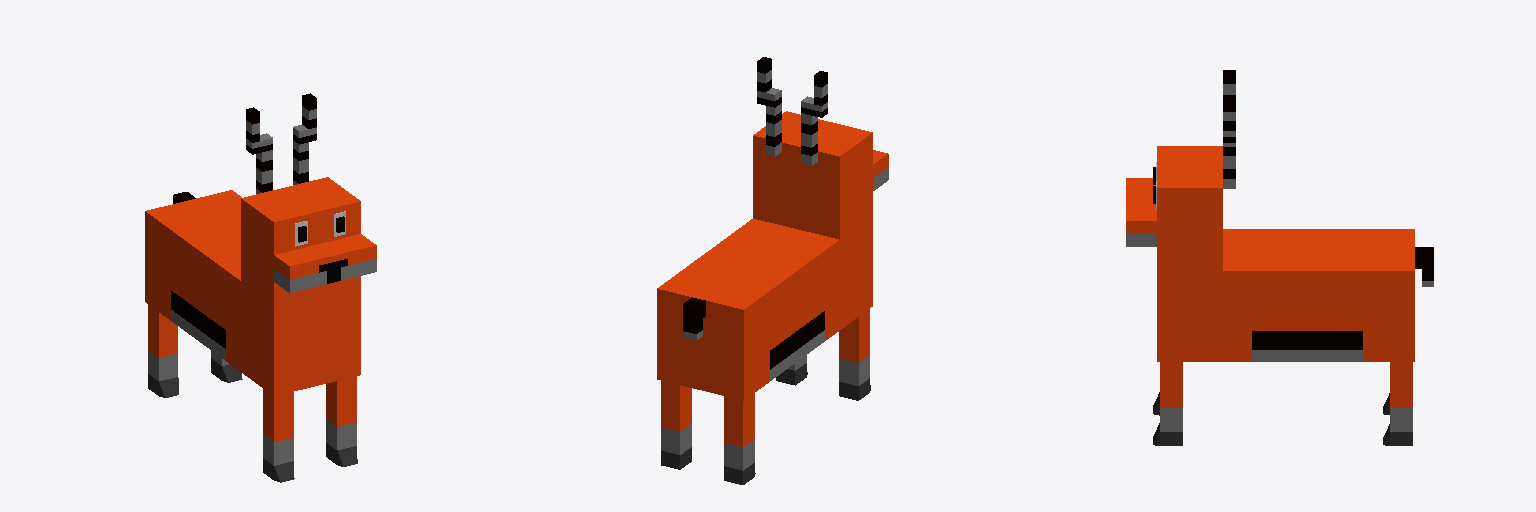
Rendered from Hert.obj.
The picture shows the model from 3 angles: view 1: azimuth 30°, elevation 25°; view 2: azimuth 150°, elevation 25°; view 3: azimuth 270°, elevation 25°; orthographic projection.
Visible parts, largest first — view 1: Cube, Cube.002_Cube.001, Cube.001, Cube.003_Cube.001, Cube.004_Cube.001; view 2: Cube, Cube.003_Cube.001, Cube.004_Cube.001, Cube.002_Cube.001; view 3: Cube, Cube.001, Cube.004_Cube.001.
Boxes of the visible parts, <box> form: Cube: <box>145,93,376,395</box>; Cube.002_Cube.001: <box>263,389,294,482</box>; Cube.001: <box>326,376,357,466</box>; Cube.003_Cube.001: <box>148,305,178,397</box>; Cube.004_Cube.001: <box>211,351,242,382</box>; Cube: <box>657,57,888,400</box>; Cube.003_Cube.001: <box>724,393,755,484</box>; Cube.004_Cube.001: <box>661,381,691,469</box>; Cube.002_Cube.001: <box>839,309,870,400</box>; Cube: <box>1126,70,1433,361</box>; Cube.001: <box>1153,362,1182,445</box>; Cube.004_Cube.001: <box>1383,362,1412,445</box>.
Bounding box in the file's own units: 1.4 × 5.25 × 4.3.